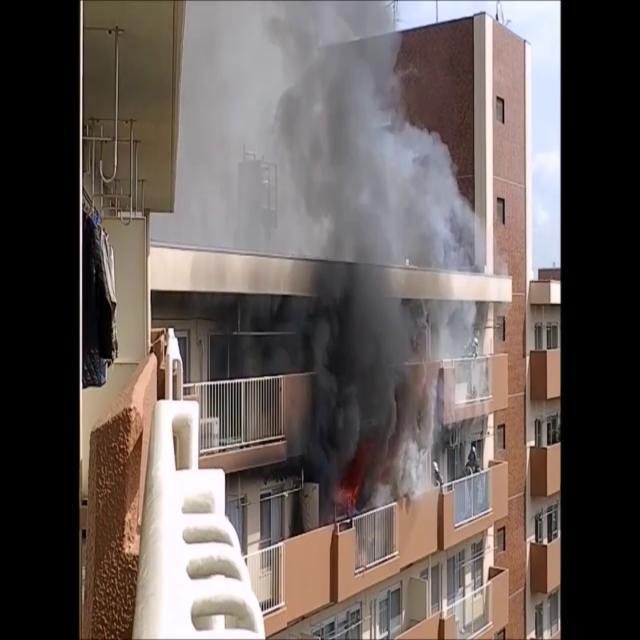Smoke: (168, 4, 488, 498)
